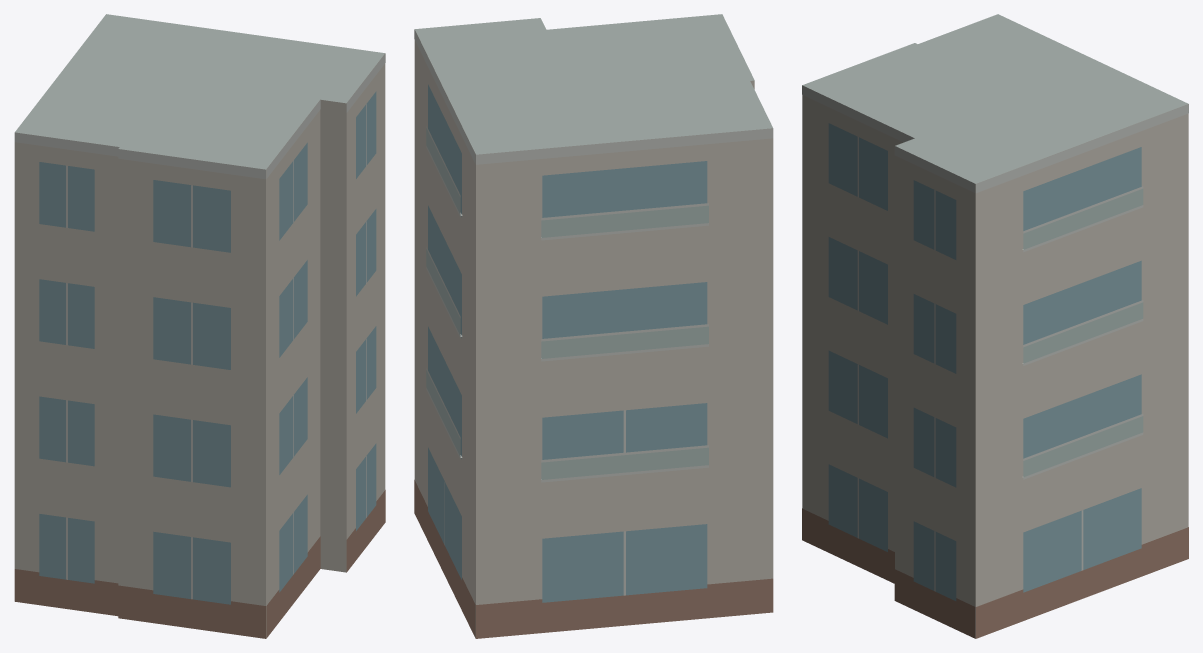
The model's file is survey-upis-32461801.glb.
The picture shows the model from 3 angles, left to right: view 1: azimuth 30°, elevation 25°; view 2: azimuth 150°, elevation 25°; view 3: azimuth 270°, elevation 25°; orthographic projection. The views are drawn at different scales.
Visible parts, largest first — view 1: survey-upis-32461801.tmp; view 2: survey-upis-32461801.tmp; view 3: survey-upis-32461801.tmp.
Part boxes in pixels (x1=…): survey-upis-32461801.tmp: x1=14, y1=14, x2=385, y2=638; survey-upis-32461801.tmp: x1=414, y1=14, x2=773, y2=638; survey-upis-32461801.tmp: x1=802, y1=14, x2=1188, y2=638.
Bounding box in the file's own units: 9.38 × 11.7 × 9.02.
